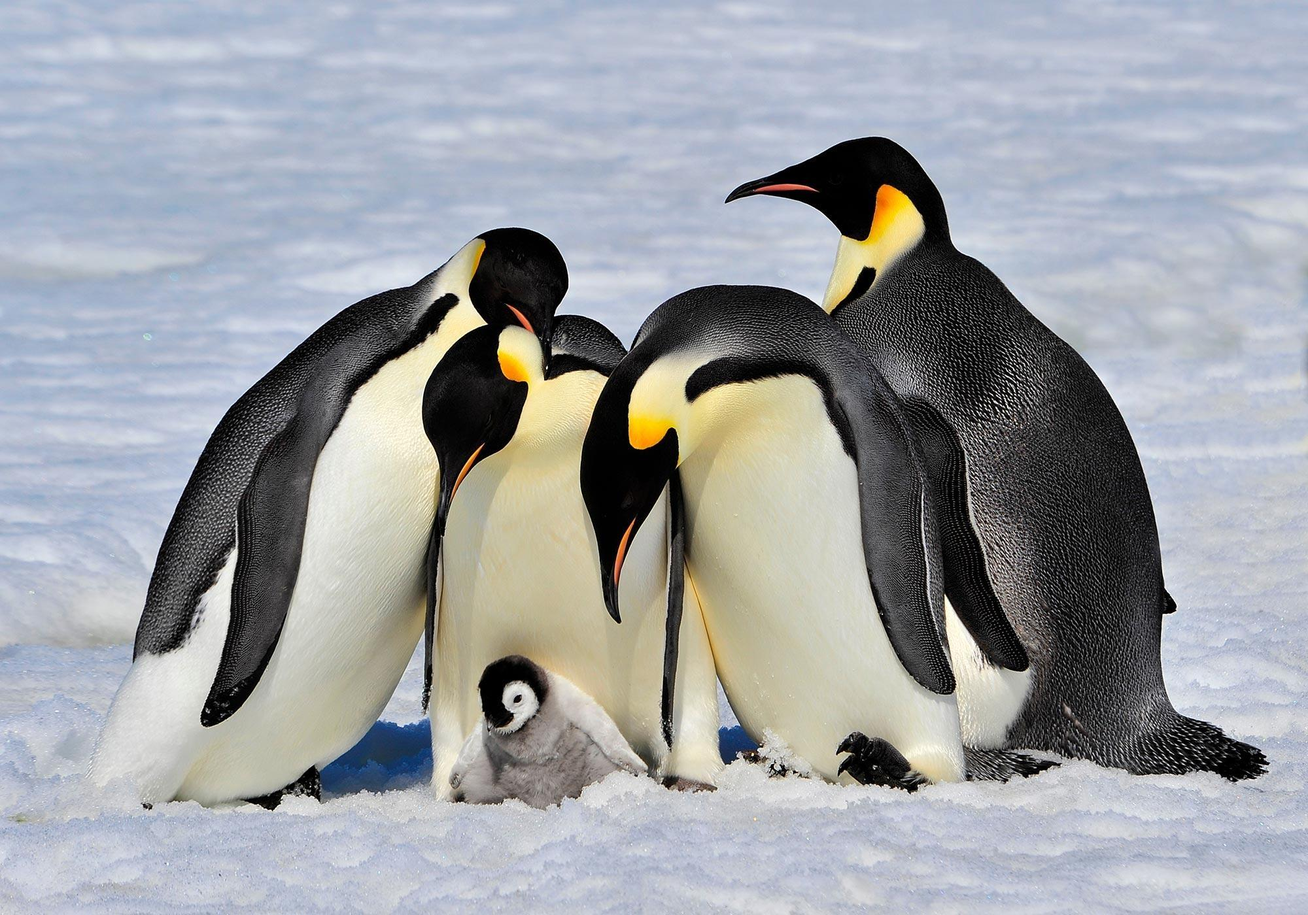Penguin: (724, 135, 1267, 778), (89, 227, 568, 808), (580, 283, 1063, 790), (421, 315, 723, 797), (445, 654, 646, 809)
